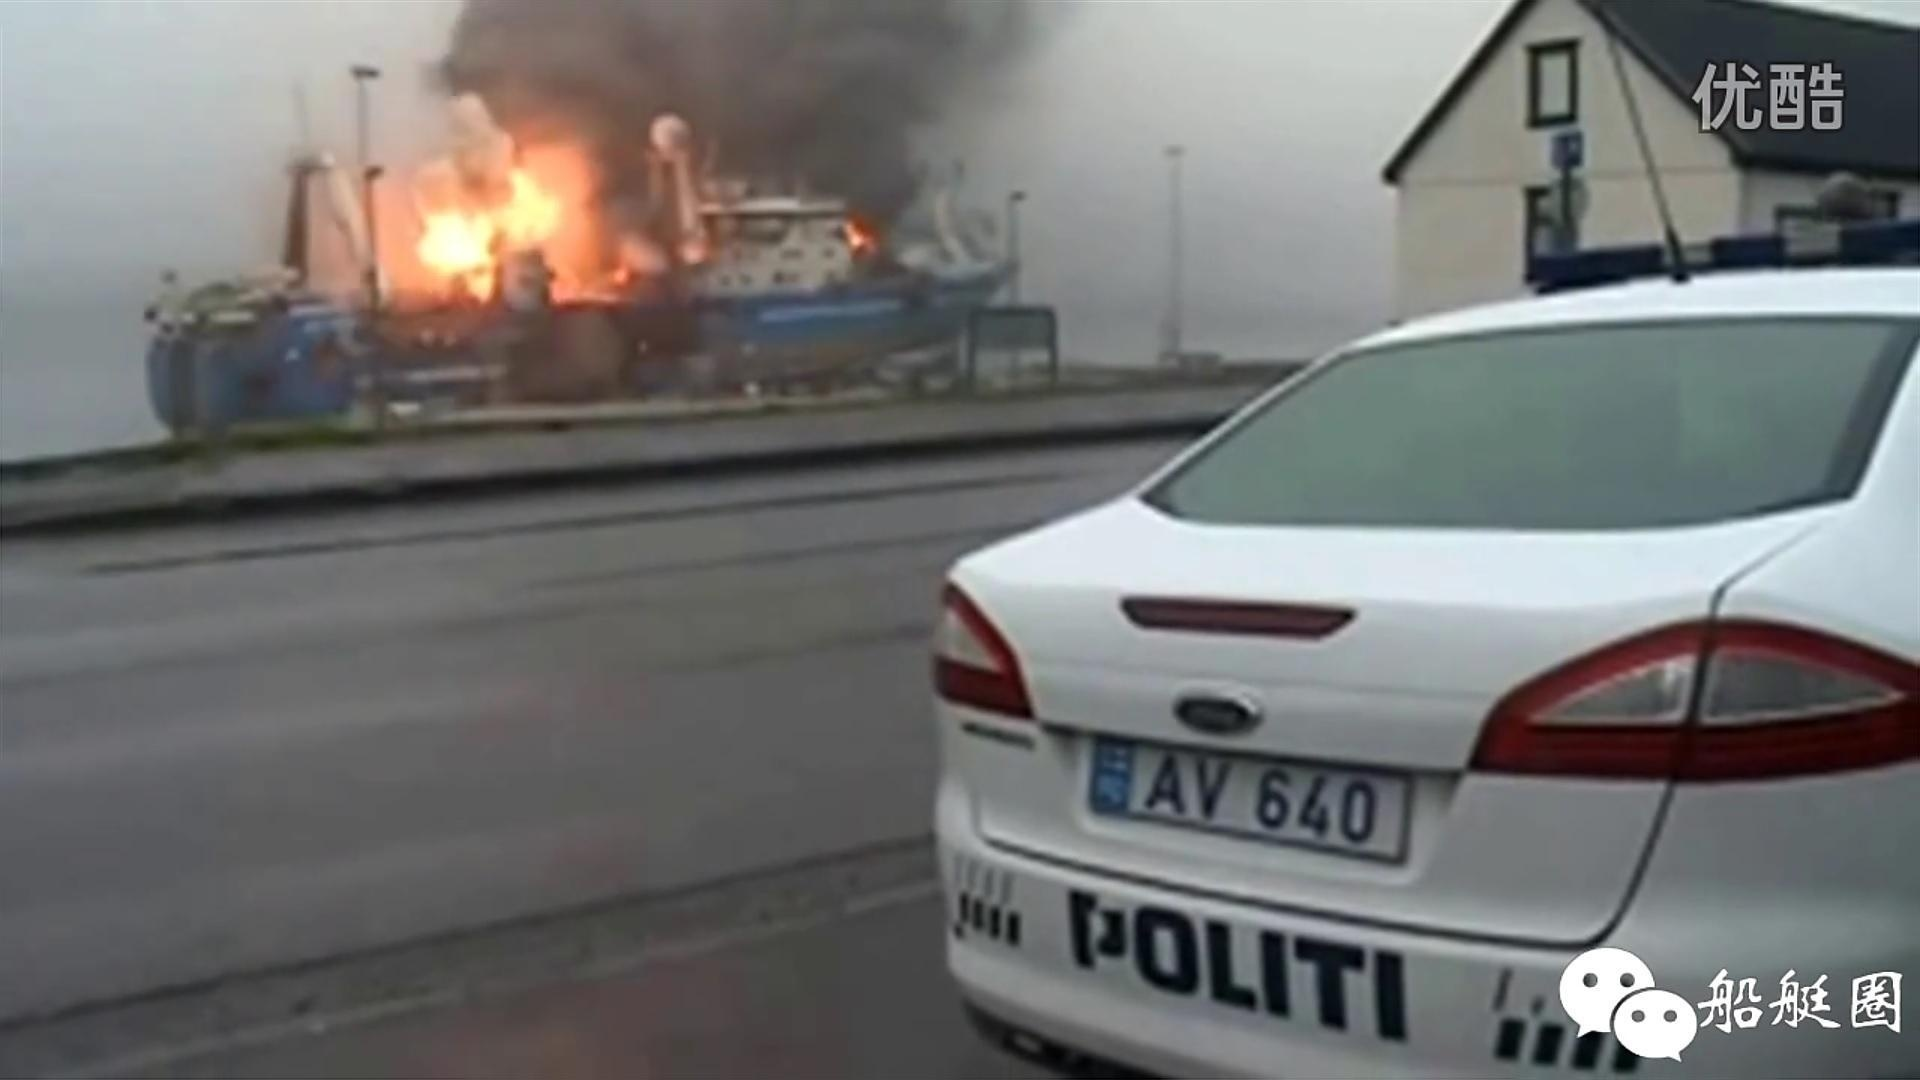fire: (406, 141, 596, 301)
